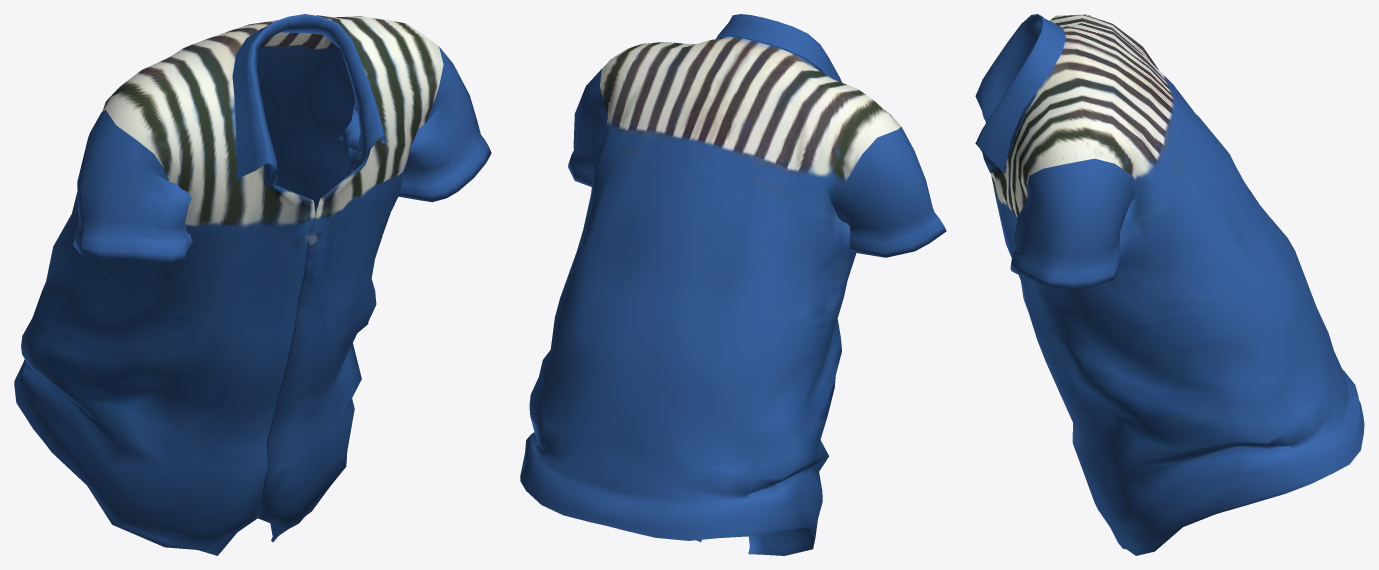
The model's file is yanjingnan03-11.fbx.
3 renders of one model, left to right at view 1: azimuth 30°, elevation 25°; view 2: azimuth 150°, elevation 25°; view 3: azimuth 270°, elevation 25°, orthographic. The views are drawn at different scales.
Parts seen in each view (by area): view 1: kanshu:polySurface1; view 2: kanshu:polySurface1; view 3: kanshu:polySurface1.
Boxes of the visible parts, x1,y1,x2,y2 form: kanshu:polySurface1: [14, 14, 491, 555]; kanshu:polySurface1: [520, 14, 946, 555]; kanshu:polySurface1: [975, 14, 1364, 555].
Size of the model in its own units: 2.86 by 3.74 by 2.57.
Materials: 1 (1 with a texture image).
